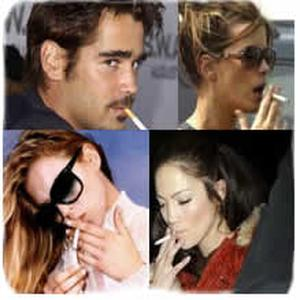cigarette: (123, 107, 148, 131), (261, 88, 289, 106), (153, 233, 172, 248), (71, 226, 79, 251)
